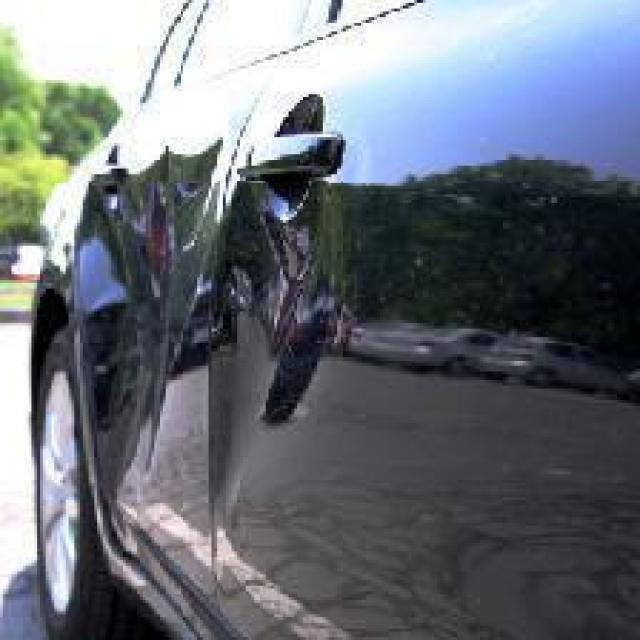damaged: (77, 140, 346, 586)
